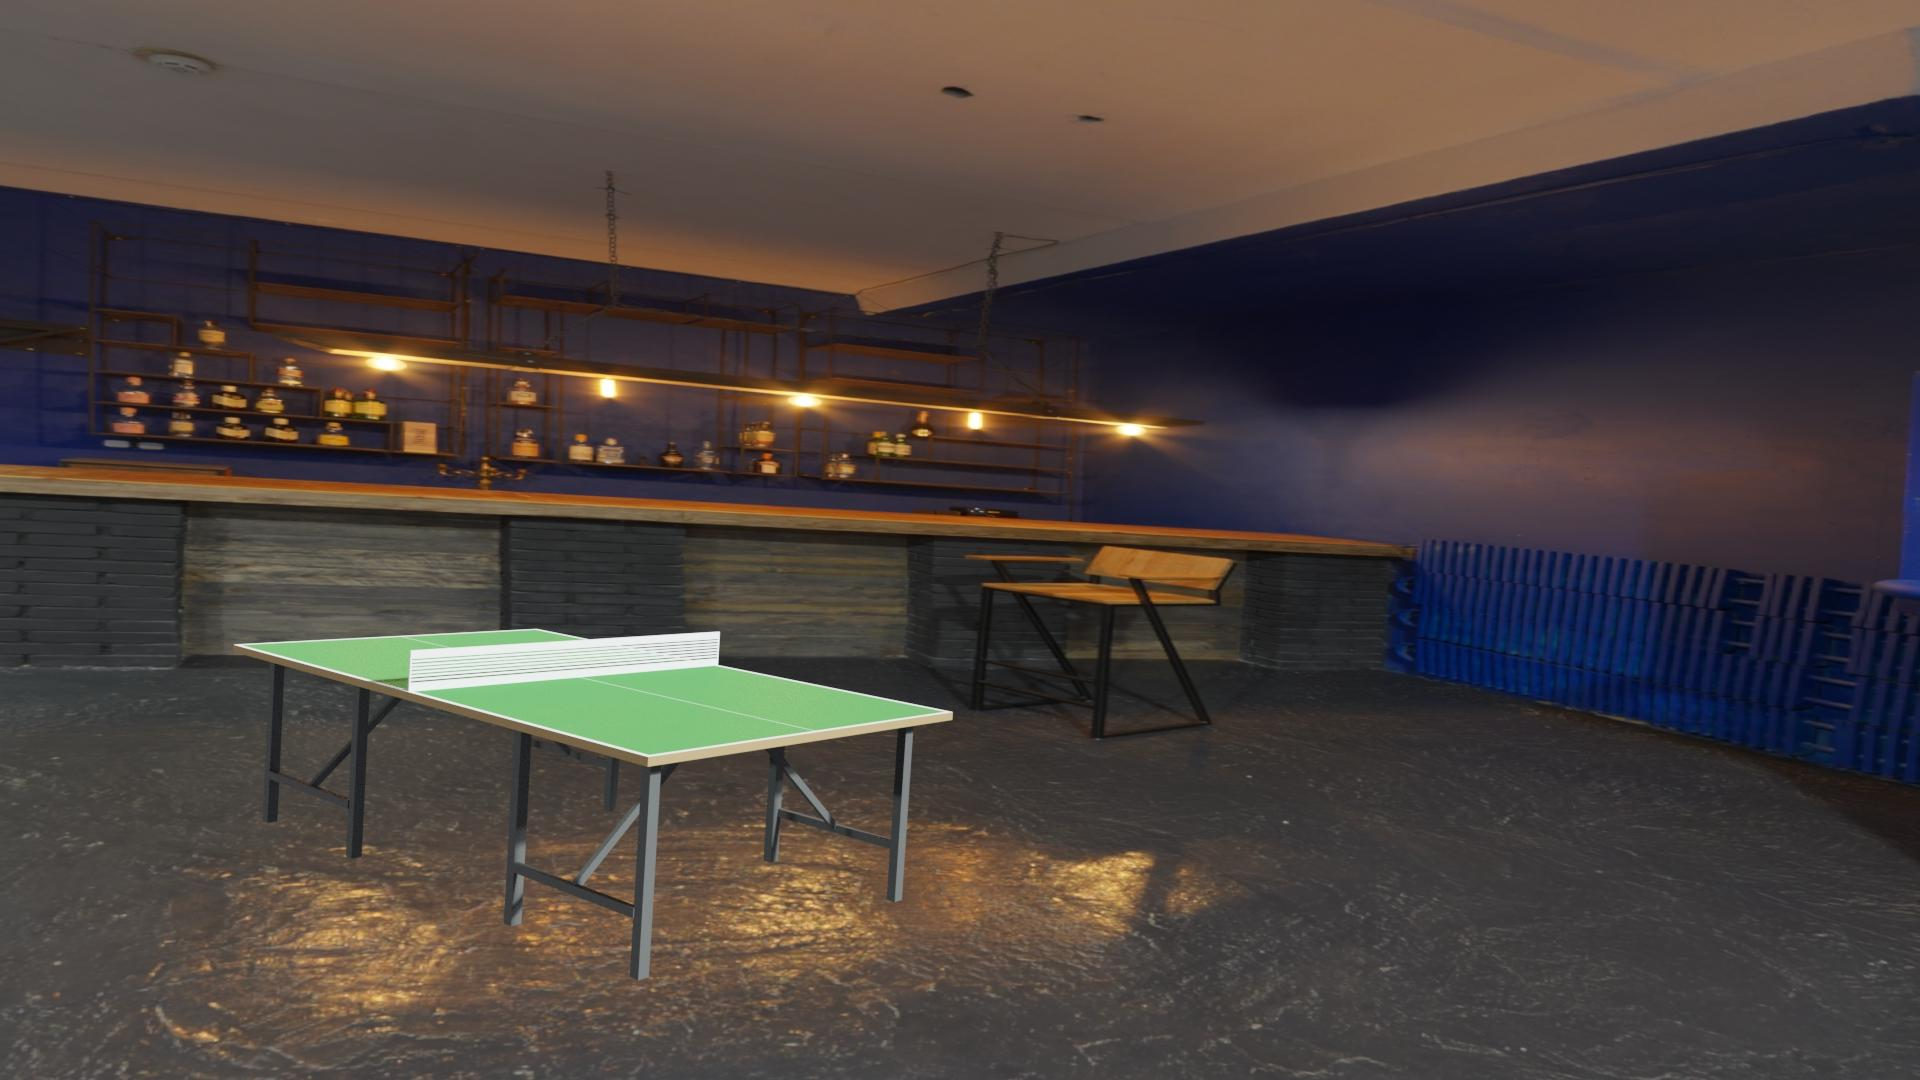table: (241, 630, 945, 756)
